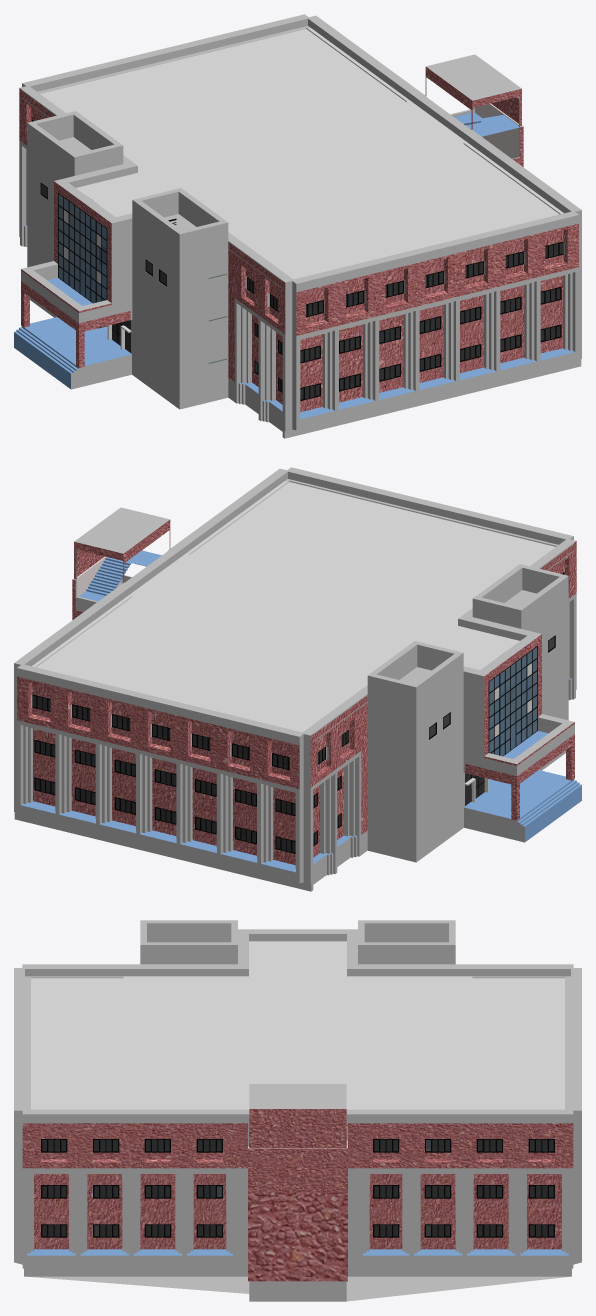
File: RIEP.fbx
3 renders of one model, top to bottom at view 1: azimuth 30°, elevation 25°; view 2: azimuth 150°, elevation 25°; view 3: azimuth 270°, elevation 25°, orthographic. The views are drawn at different scales.
Visible parts, largest first — view 1: wall0, wall5, floor0, window9_LOD0, window17_LOD0, window10_LOD0, wall4, wall2, Stairs.005; view 2: wall0, wall5, floor0, window1_LOD0, window17_LOD0, window2_LOD0, Stairs.005, wall4, wall2; view 3: wall0, wall5, floor0, wall4, wall1, wall3, window4_LOD0, window6_LOD0, window3_LOD0, window7_LOD0.
Part boxes in pixels (box(x1,y1,x2,y2)): wall0: box(19, 14, 581, 420); wall5: box(40, 28, 563, 279); floor0: box(14, 224, 581, 438); window9_LOD0: box(300, 286, 561, 400); window17_LOD0: box(58, 193, 107, 303); window10_LOD0: box(306, 241, 563, 317); wall4: box(450, 103, 523, 166); wall2: box(39, 27, 560, 312); Stairs.005: box(454, 112, 519, 136); wall0: box(14, 467, 576, 873); wall5: box(32, 481, 555, 732); floor0: box(14, 677, 581, 891); window1_LOD0: box(34, 739, 295, 853); window17_LOD0: box(488, 646, 537, 756); window2_LOD0: box(32, 694, 289, 770); Stairs.005: box(79, 550, 161, 601); wall4: box(72, 556, 131, 619); wall2: box(35, 480, 556, 764); wall0: box(14, 920, 581, 1255); wall5: box(31, 941, 564, 1109); floor0: box(14, 1249, 581, 1301); wall4: box(248, 1123, 347, 1192); wall1: box(248, 1237, 347, 1281); wall3: box(248, 1192, 347, 1236); window4_LOD0: box(373, 1185, 554, 1237); window6_LOD0: box(41, 1185, 222, 1237); window3_LOD0: box(373, 1139, 554, 1152); window7_LOD0: box(41, 1139, 222, 1152).
Size of what is drawn, in the model's own units: 4466 by 1736 by 4640.
